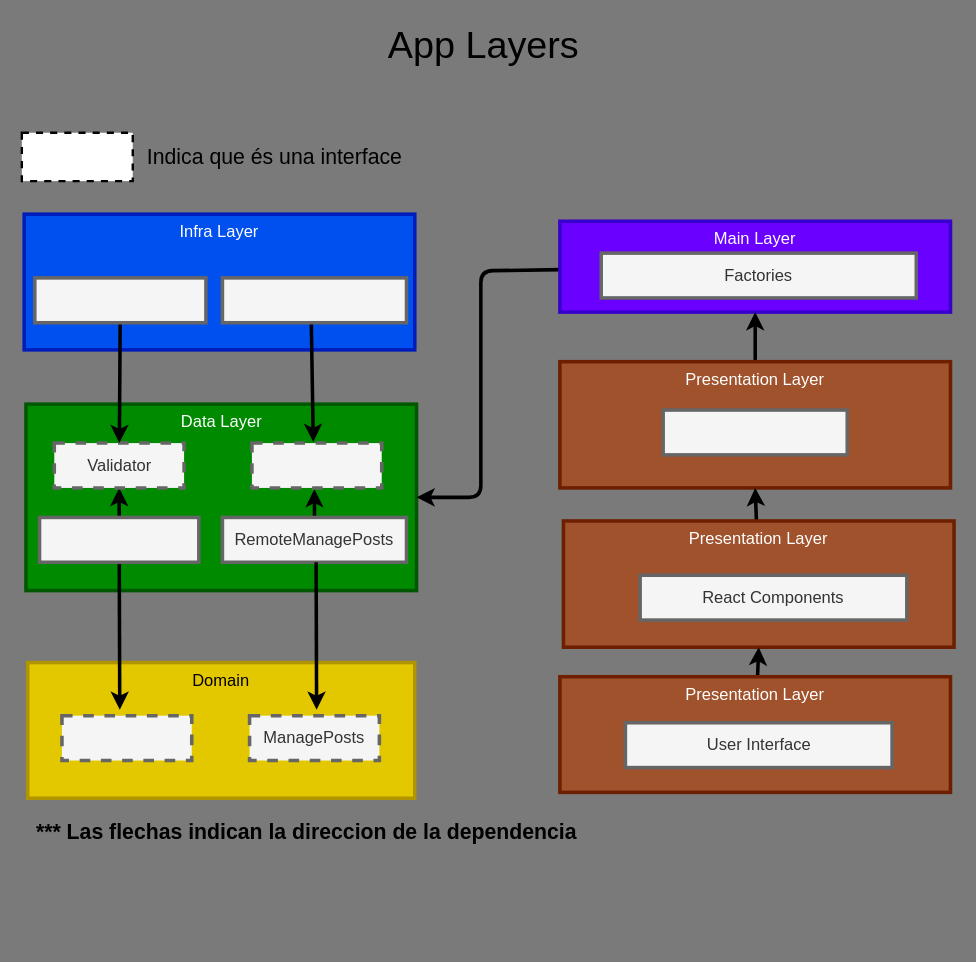
This 976x962 diagram has some shape labels left out. Each missing label, with the centre of its shape:
Auth: (x=126, y=737)
Custom React Hooks: (x=754, y=432)
HttClient: (x=316, y=465)
HttpClient (instance): (x=314, y=300)
LocalAuthentication: (x=118, y=539)
Validator (instance): (x=119, y=300)
